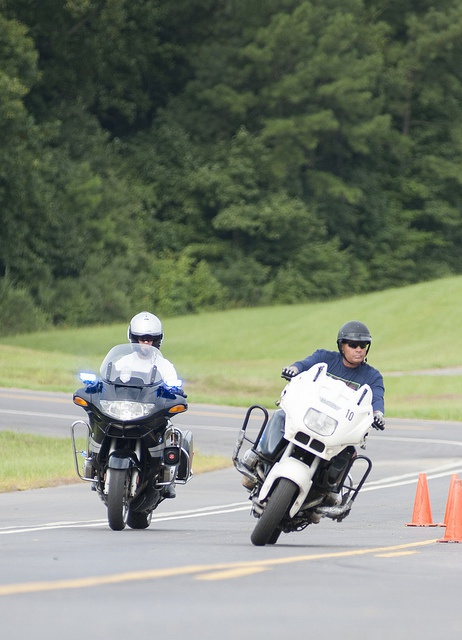non-vehicle: (232, 362, 394, 558), (70, 346, 197, 533)
